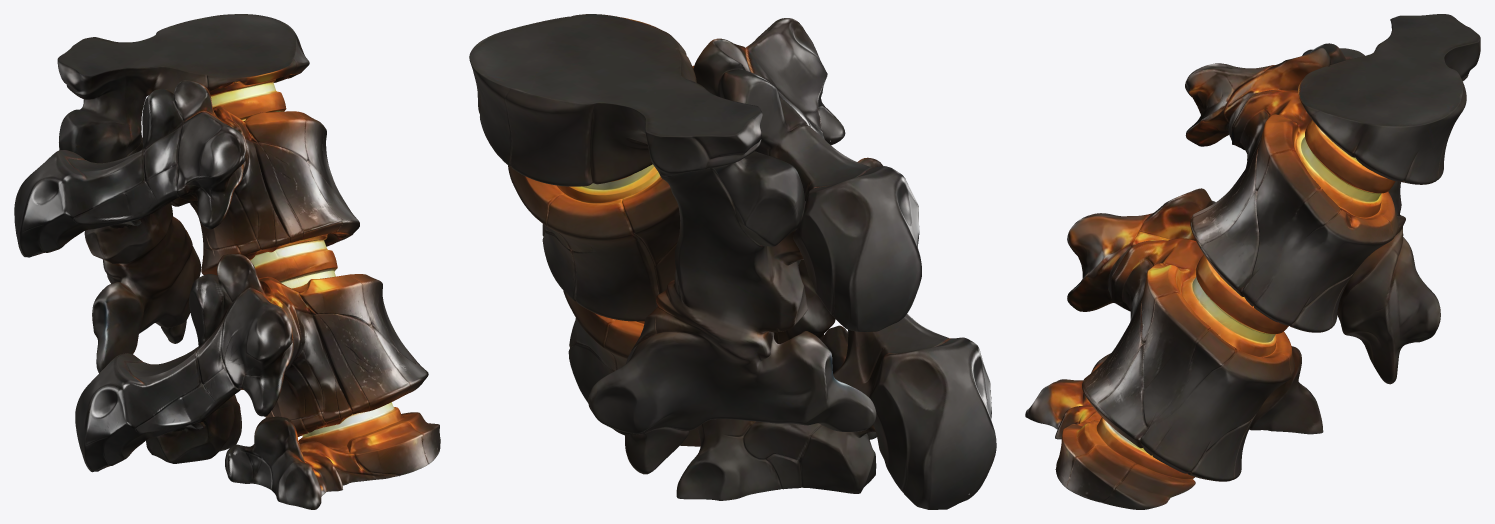
Rendered from desktop.glb.
The picture shows the model from 3 angles, left to right: view 1: azimuth 30°, elevation 25°; view 2: azimuth 150°, elevation 25°; view 3: azimuth 270°, elevation 25°; orthographic projection. The views are drawn at different scales.
Parts seen in each view (by area): view 1: tripo_node_14edf788-3b34-4d63-ac44-ec0509f64d49; view 2: tripo_node_14edf788-3b34-4d63-ac44-ec0509f64d49; view 3: tripo_node_14edf788-3b34-4d63-ac44-ec0509f64d49.
Boxes of the visible parts, <box> form: tripo_node_14edf788-3b34-4d63-ac44-ec0509f64d49: <box>14,14,440,509</box>; tripo_node_14edf788-3b34-4d63-ac44-ec0509f64d49: <box>469,14,996,509</box>; tripo_node_14edf788-3b34-4d63-ac44-ec0509f64d49: <box>1025,14,1480,509</box>.
Size of the model in its own units: 0.9064 by 0.8823 by 0.9826.
1 material, 1 textured.
